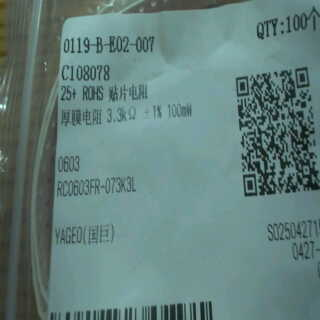3.3kO: (104, 105, 140, 128)
